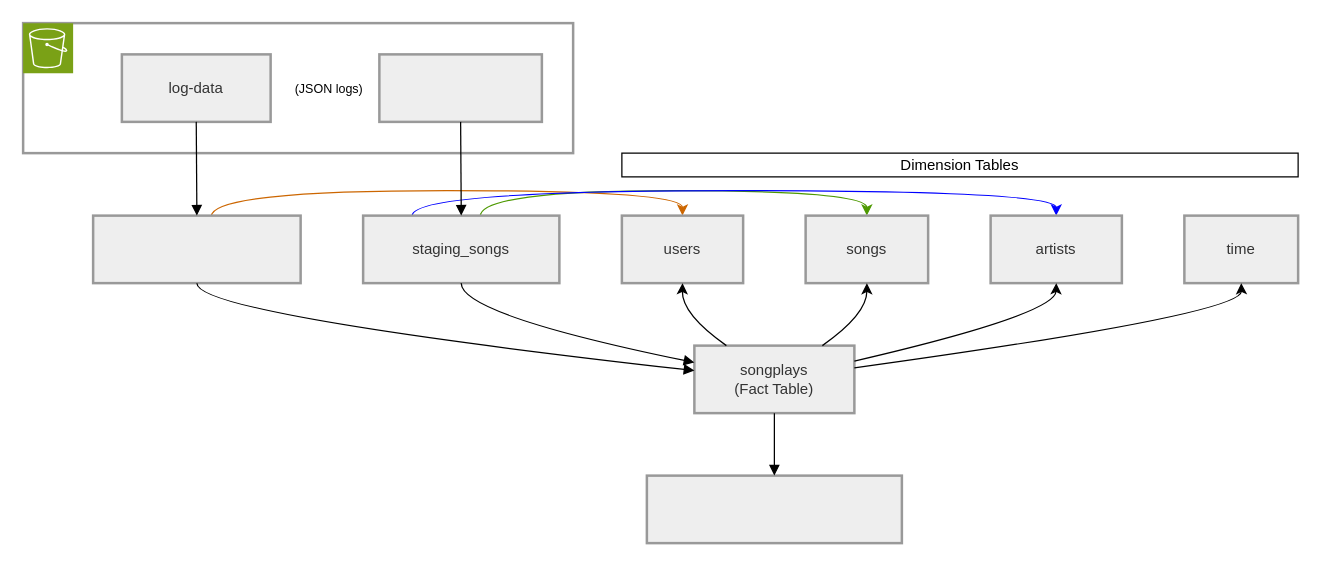
Image size: 1320x565. Some labels were removed from this diagram. The shapes that lost their labels are listed below. From the top down, each one's centre as x and y in pixels, then its label:
At pixel 47 47: "S3 Buckets".
At pixel 460 87: "song-data".
At pixel 196 249: "staging_events".
At pixel 773 509: "Data Quality Checks".
